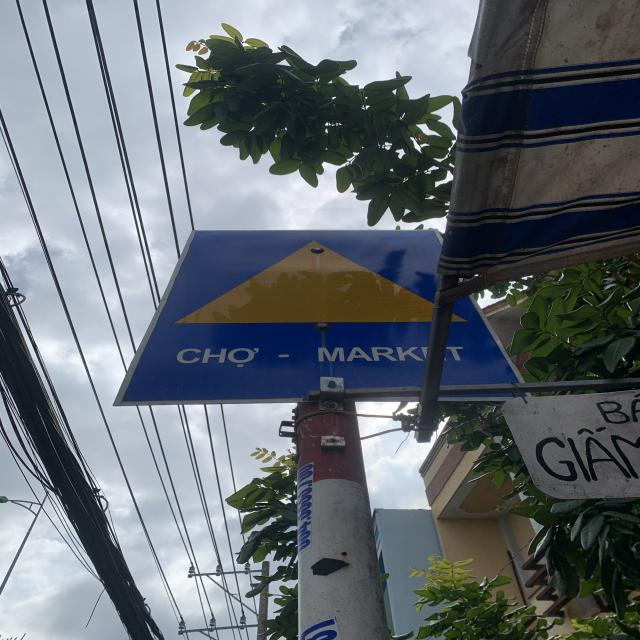Cho_Quay_Xe: (115, 227, 507, 400)
